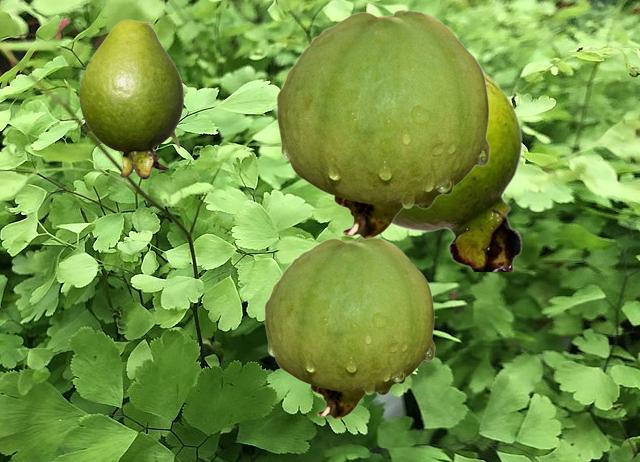guava: (276, 9, 489, 238), (264, 237, 434, 418), (392, 71, 522, 270), (79, 19, 182, 178)
